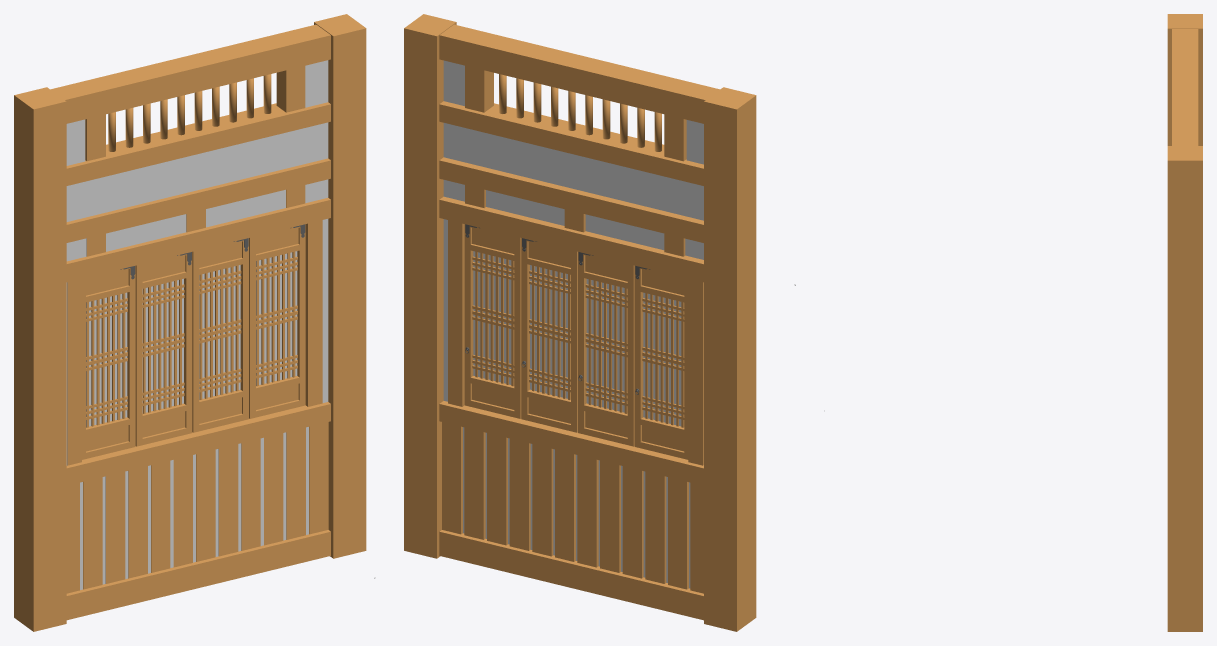
The model's file is 中药铺.fbx.
3 renders of one model, left to right at view 1: azimuth 30°, elevation 25°; view 2: azimuth 150°, elevation 25°; view 3: azimuth 270°, elevation 25°, orthographic. The views are drawn at different scales.
Visible parts, largest first — view 1: wallparts; view 2: wallparts; view 3: wallparts.
Part boxes in pixels (x1=…): wallparts: x1=14, y1=14, x2=375, y2=631; wallparts: x1=404, y1=14, x2=795, y2=631; wallparts: x1=824, y1=14, x2=1202, y2=631.
Size of the model in its own units: 242 by 364 by 265.
